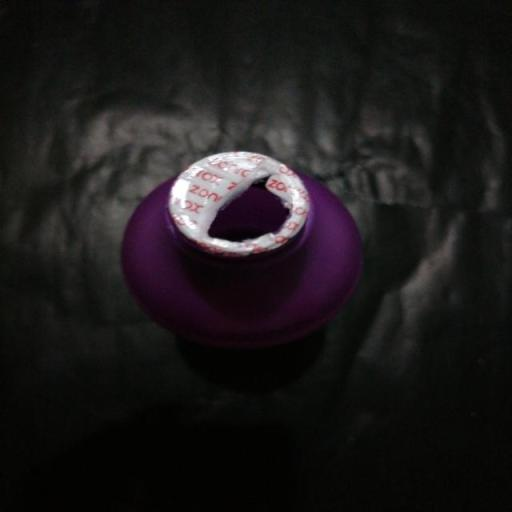plastic: (90, 114, 397, 384)
